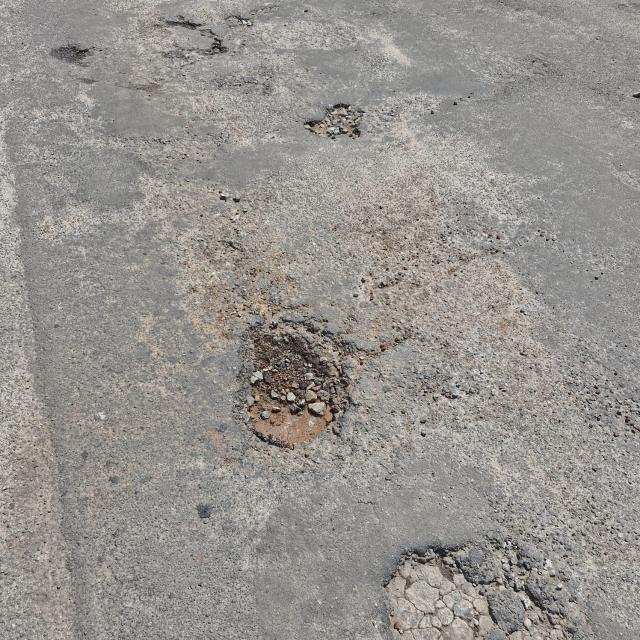pothole: (211, 311, 366, 466), (378, 534, 586, 637), (157, 13, 230, 62), (298, 95, 368, 146)
